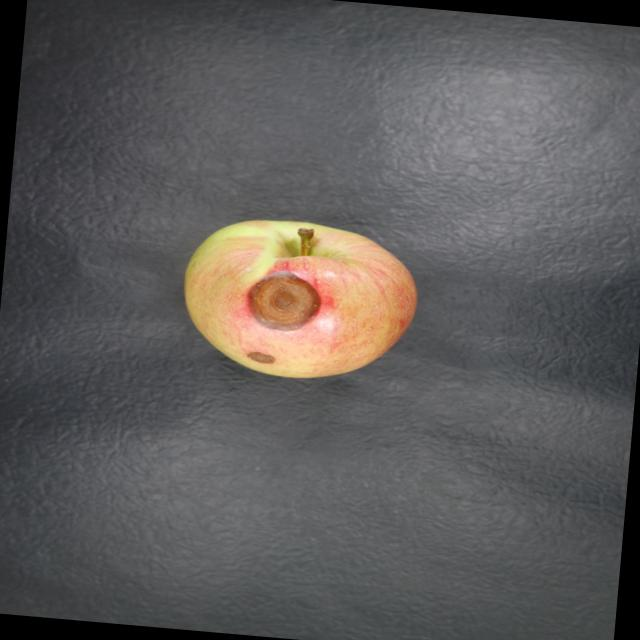rotten: (162, 204, 442, 399)
